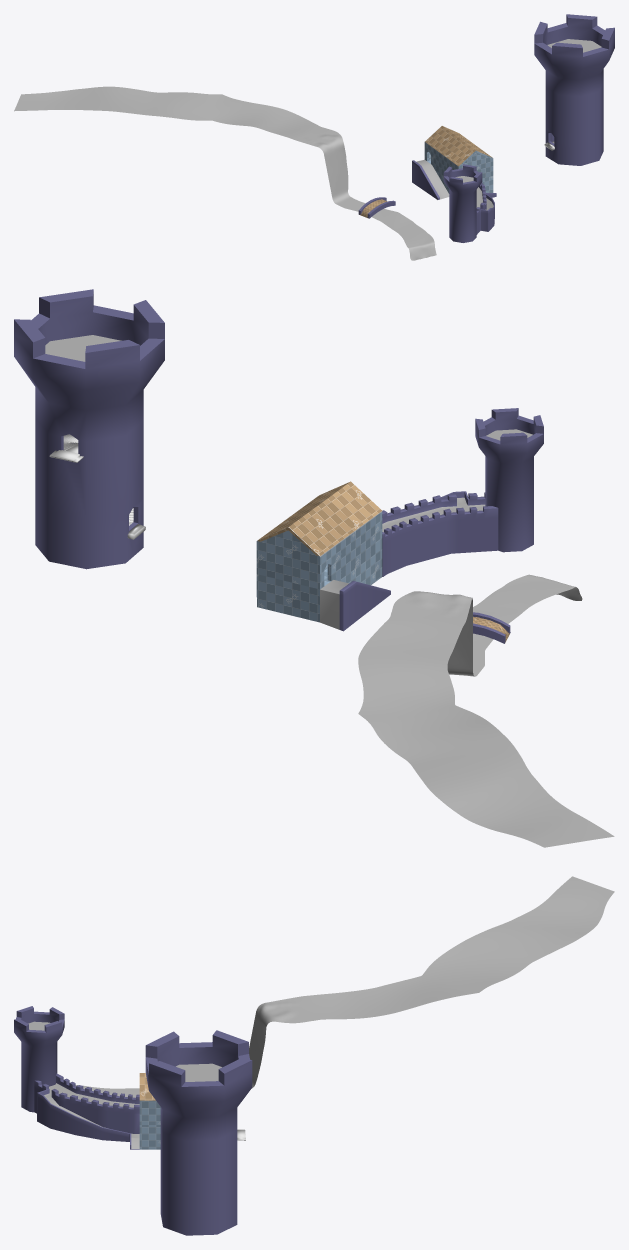
The model's file is ruined_forest.fbx.
The picture shows the model from 3 angles, top to bottom: view 1: azimuth 30°, elevation 25°; view 2: azimuth 150°, elevation 25°; view 3: azimuth 270°, elevation 25°; orthographic projection. The views are drawn at different scales.
Parts seen in each view (by area): view 1: waterfall_and_stream.001, larger_tower, tower_house, small_tower, ruined_forest.003, tower_wall, footbridge; view 2: larger_tower, waterfall_and_stream.001, tower_house, tower_wall, small_tower, ruined_forest.003, footbridge; view 3: larger_tower, waterfall_and_stream.001, tower_wall, small_tower, tower_house.
Boxes of the visible parts, x1,y1,x2,y2 form: waterfall_and_stream.001: [14, 86, 436, 260]; larger_tower: [534, 14, 614, 165]; tower_house: [424, 126, 493, 193]; small_tower: [443, 164, 482, 242]; ruined_forest.003: [412, 159, 449, 199]; tower_wall: [476, 182, 496, 234]; footbridge: [358, 197, 395, 218]; larger_tower: [14, 289, 164, 569]; waterfall_and_stream.001: [358, 574, 614, 847]; tower_house: [256, 481, 382, 622]; tower_wall: [382, 491, 498, 576]; small_tower: [475, 408, 543, 552]; ruined_forest.003: [320, 580, 390, 631]; footbridge: [473, 612, 510, 643]; larger_tower: [145, 1030, 252, 1235]; waterfall_and_stream.001: [75, 876, 614, 1097]; tower_wall: [34, 1073, 139, 1149]; small_tower: [14, 1006, 64, 1112]; tower_house: [139, 1073, 160, 1149].
Bounding box in the file's own units: 21501 × 6252 × 17980.
